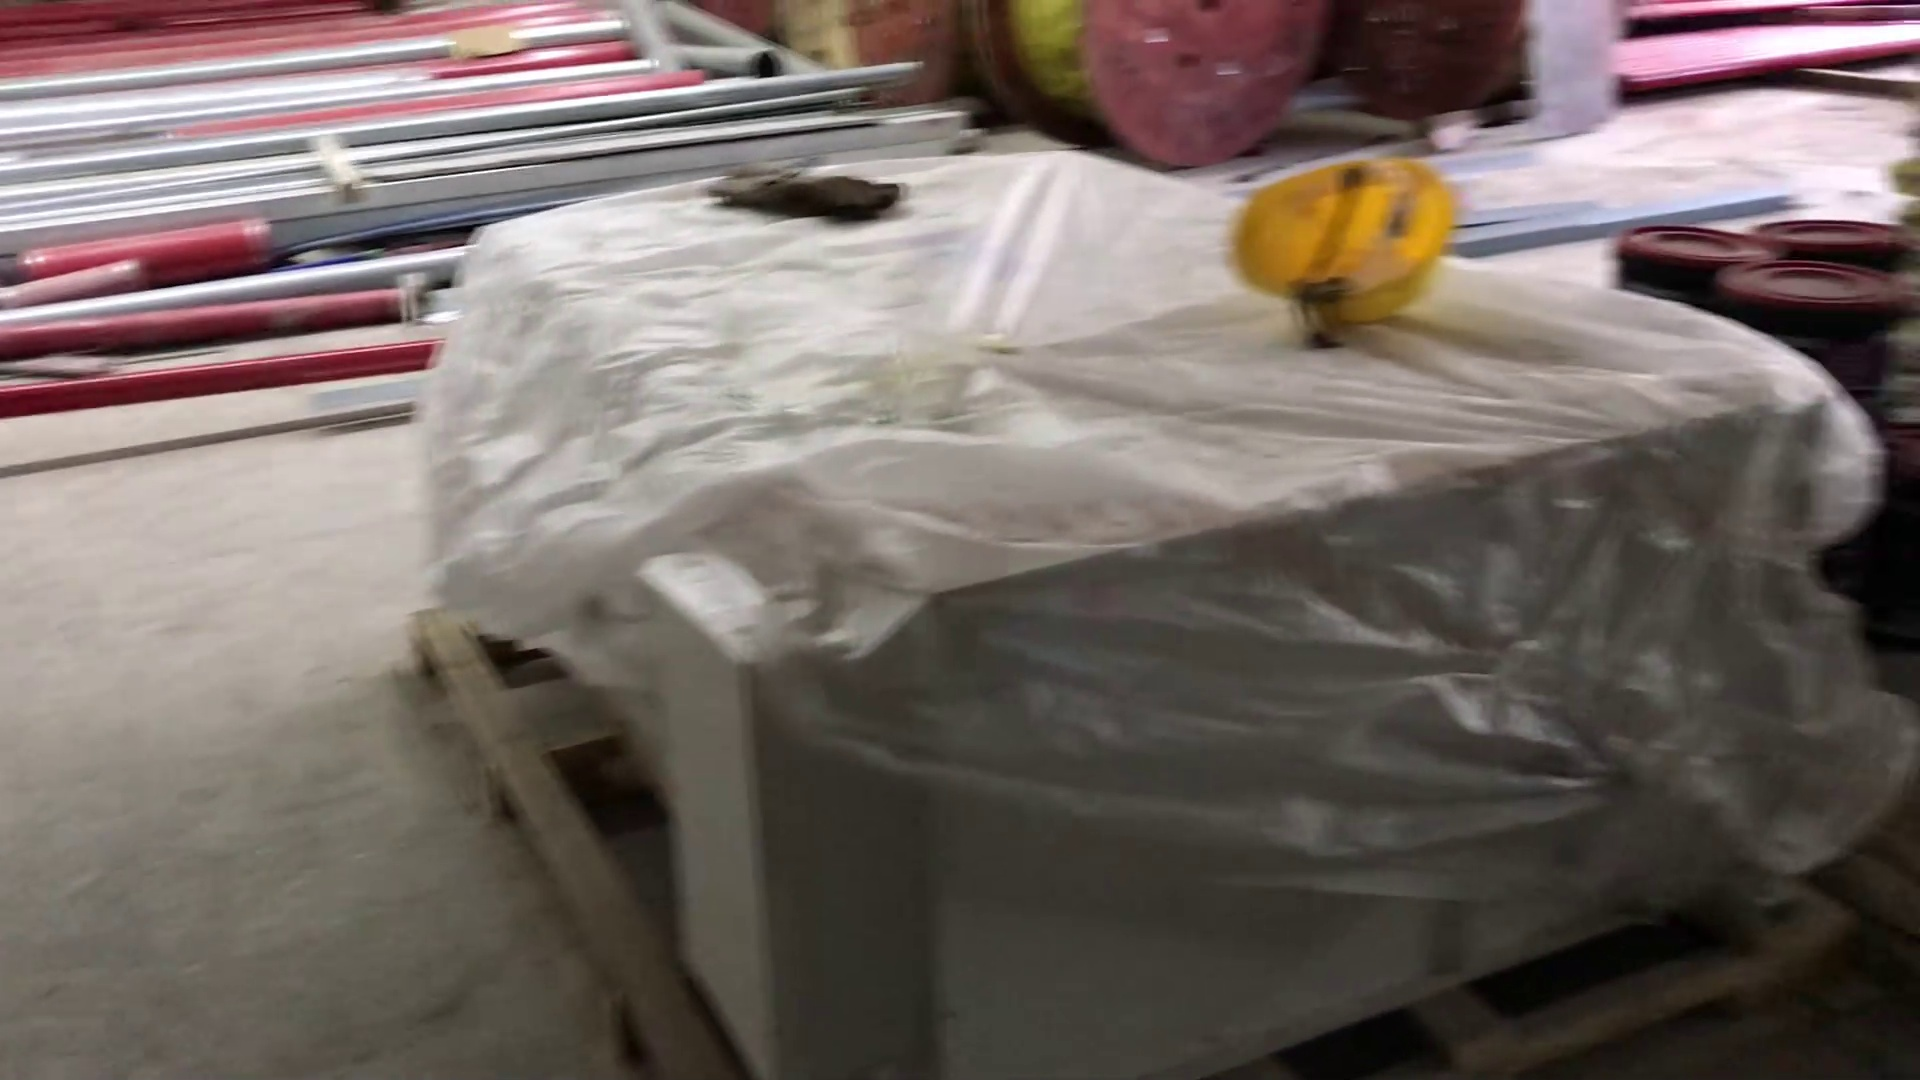helmet: (1217, 146, 1458, 334)
